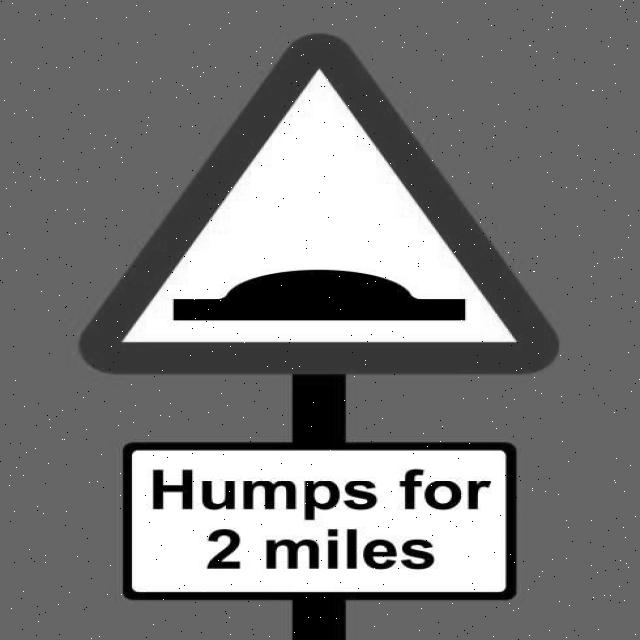Bump: (79, 28, 557, 370)
